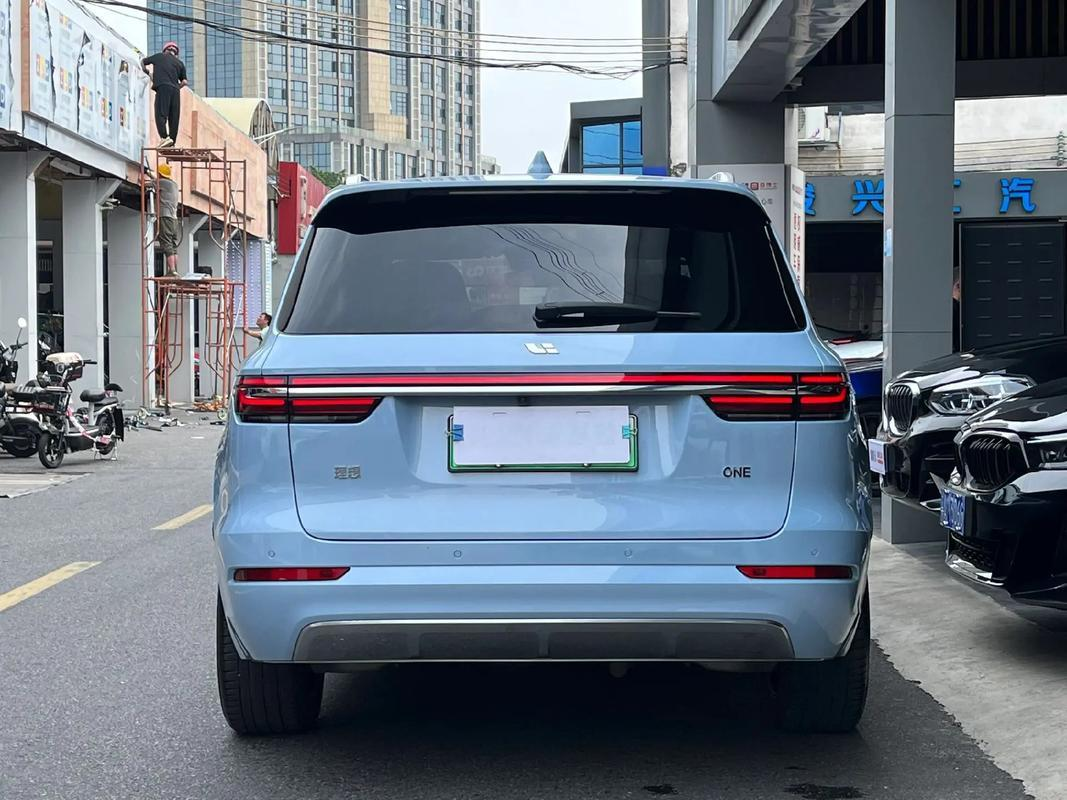Li Auto: (524, 342, 560, 355)
